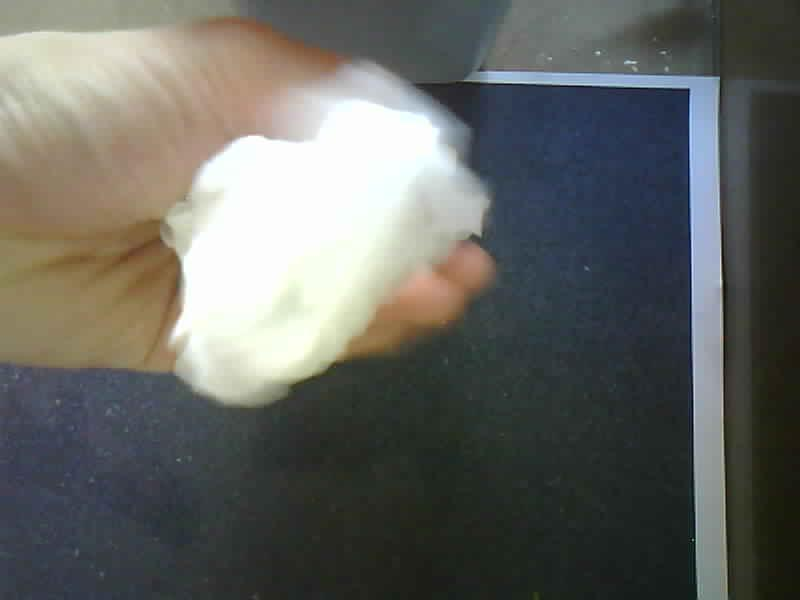paper: (162, 64, 489, 406)
